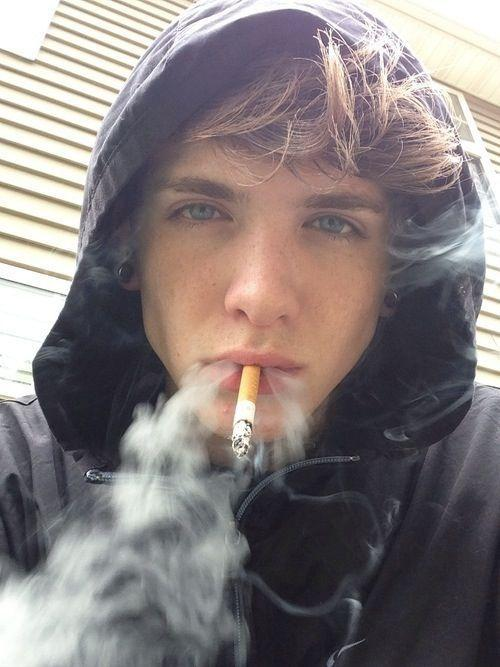cigarette: (232, 366, 261, 459)
